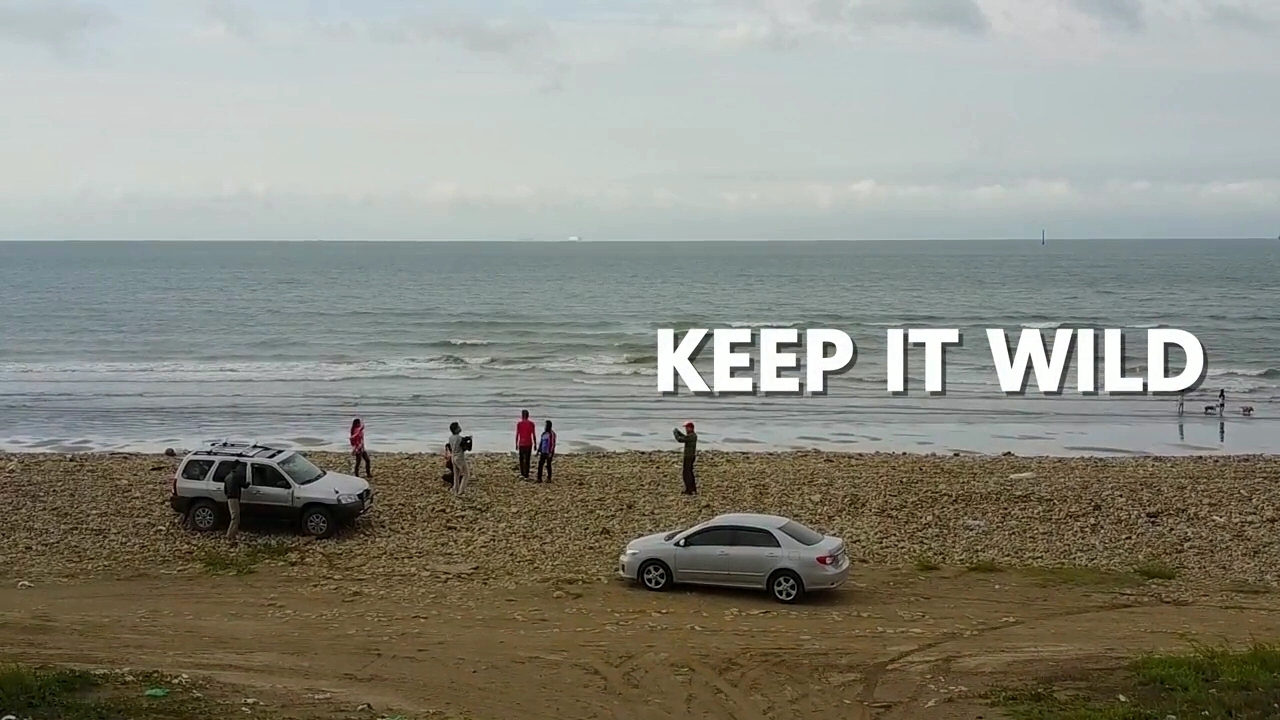araba: (619, 512, 853, 597), (169, 441, 378, 535)
insan: (444, 418, 479, 500), (220, 458, 251, 542), (669, 419, 701, 494), (511, 404, 539, 484), (534, 418, 559, 484), (347, 412, 369, 479), (1216, 387, 1228, 422), (1177, 390, 1190, 418)
